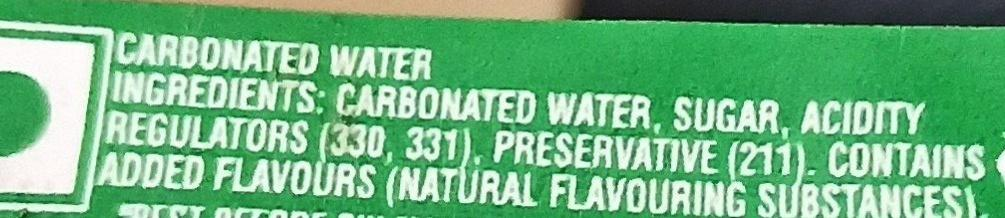ingredients: (101, 20, 993, 218)
